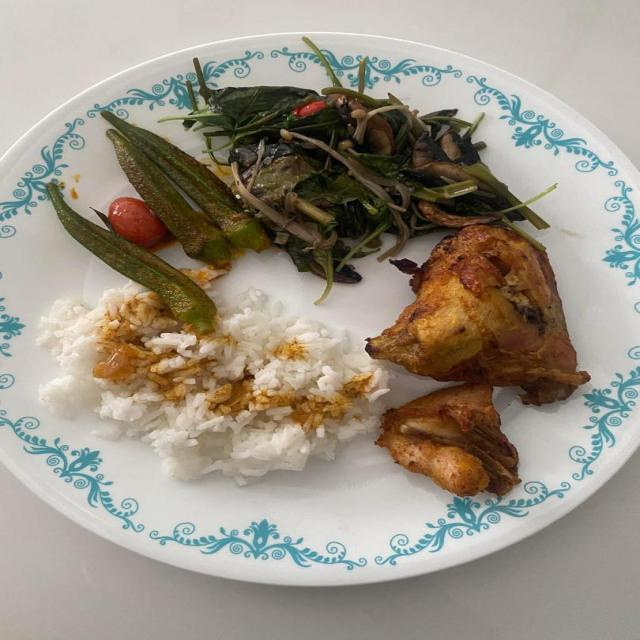Chicken: (360, 225, 601, 500)
Plate: (0, 38, 639, 584)
Rice: (41, 268, 388, 486)
Vegetables: (44, 40, 564, 335)
